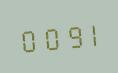nine: (58, 20, 77, 51)
one: (78, 18, 97, 49)
zero: (38, 21, 57, 53), (18, 23, 37, 54)
